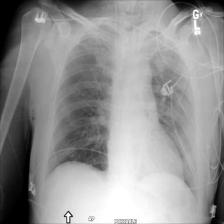normal: (40, 14, 200, 198)
